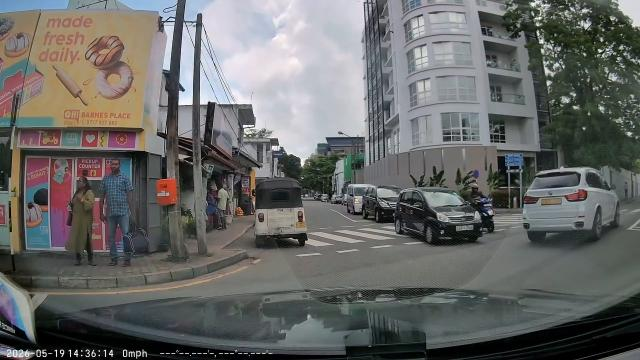illegal parking: (254, 174, 318, 253)
number plate: (293, 220, 307, 229)
